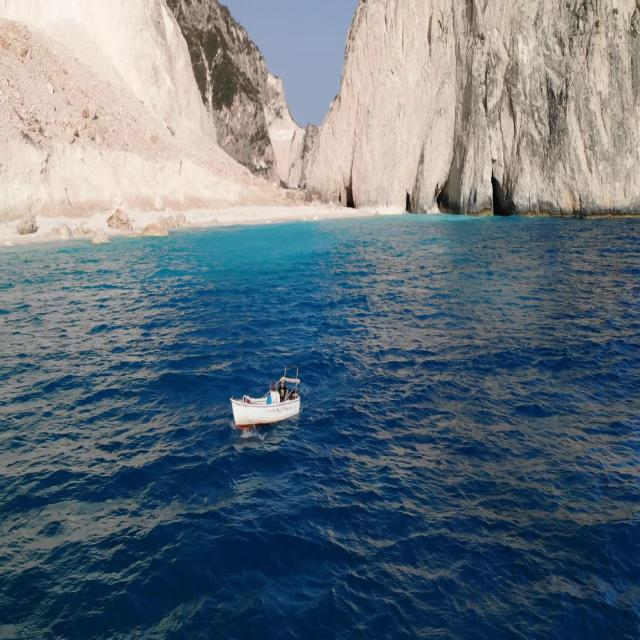boat: (228, 367, 304, 443)
